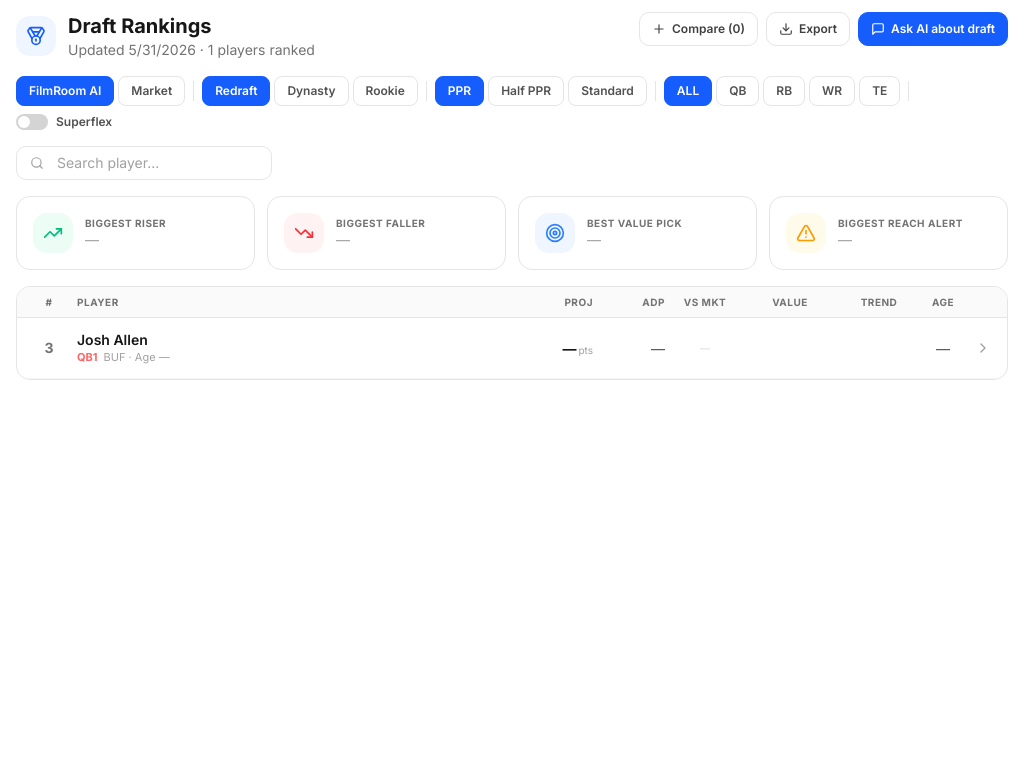
Scenario: DraftRankingsView — trend and movement use real data only › shows real ceiling/floor ranks when present
Click the button "3 Josh Allen QB1 BUF · Age — —pts — — —".
click(112, 340)  # box [44,331,991,364]
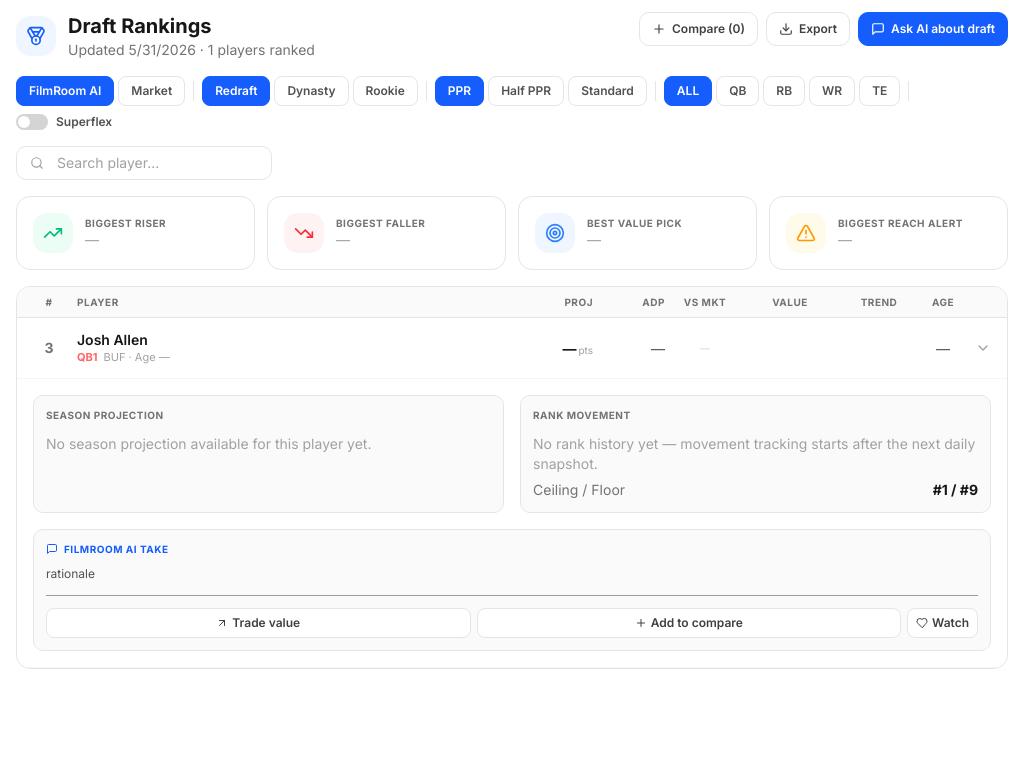
Expected: the text "Ceiling / Floor" is shown, [533,480,625,500]
Expected: the text "#1 / #9" is shown, [933,480,978,500]
